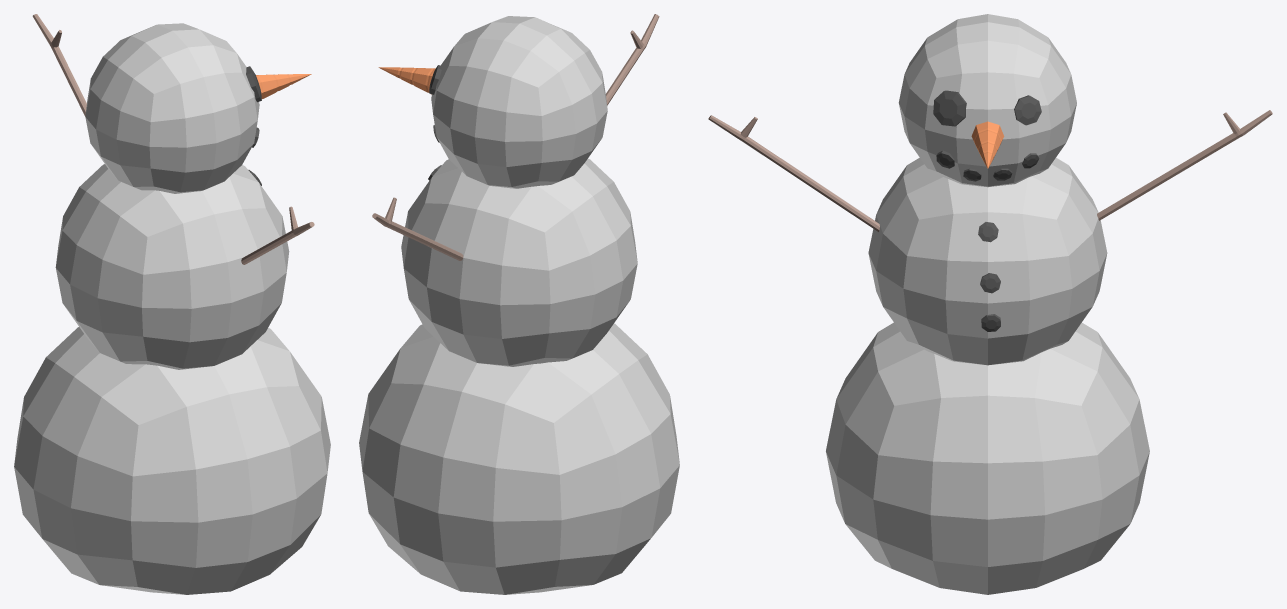
The model's file is Snowman.glb.
3 views of the same model, side by side, from view 1: azimuth 30°, elevation 25°; view 2: azimuth 150°, elevation 25°; view 3: azimuth 270°, elevation 25° (orthographic).
Parts seen in each view (by area): view 1: Snowman_Roundcube; view 2: Snowman_Roundcube; view 3: Snowman_Roundcube.
Boxes of the visible parts, x1,y1,x2,y2 form: Snowman_Roundcube: (14,14,330,594); Snowman_Roundcube: (359,14,679,594); Snowman_Roundcube: (708,14,1272,594).
Bounding box in the file's own units: 5.35 × 9.84 × 9.29.
